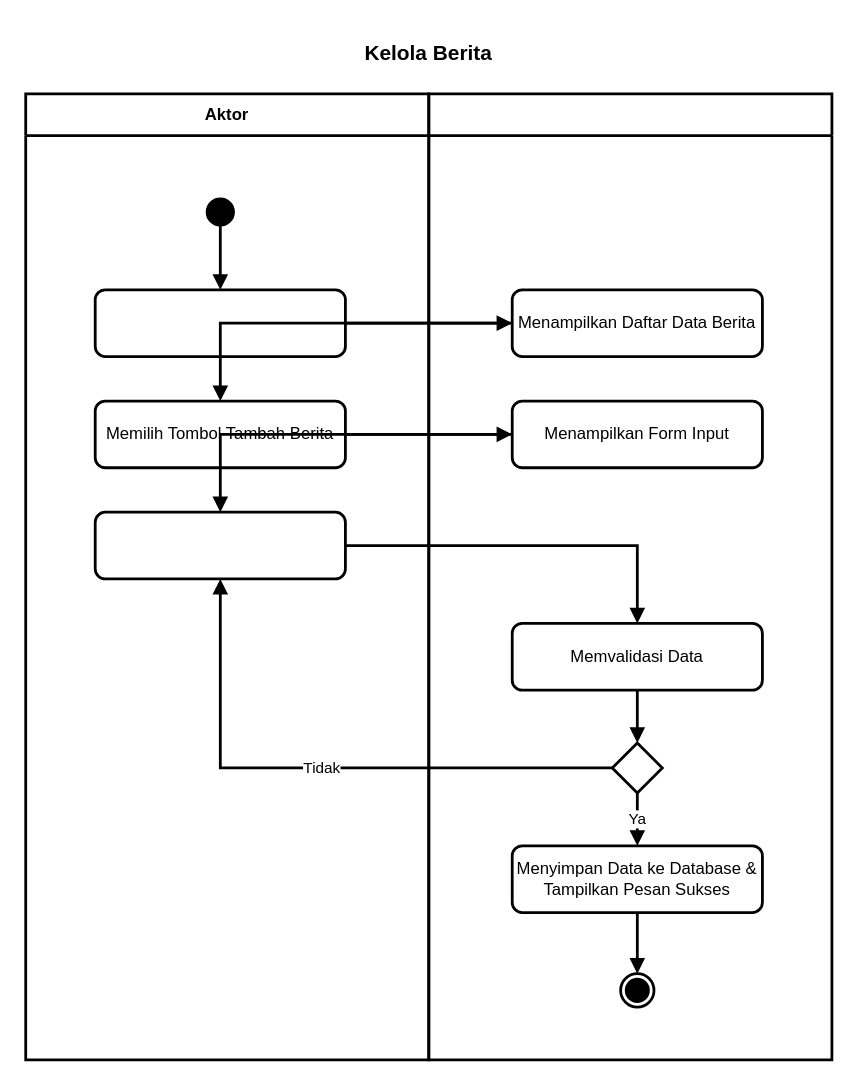
Image size: 856x1084. Some labels were removed from this diagram. The box of each missing label's shape, as (x1, y1, x2, y2) in pixels:
Memilih Menu Kelola Berita: (93, 288, 346, 357)
Menginputkan Data Berita & Klik Simpan: (93, 510, 346, 580)
Sistem: (427, 92, 833, 1061)
